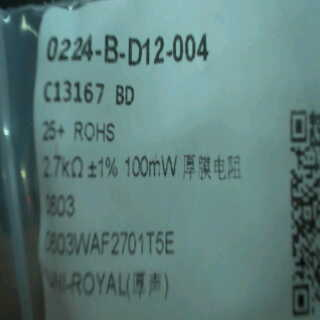2.7kR: (40, 149, 87, 184)
